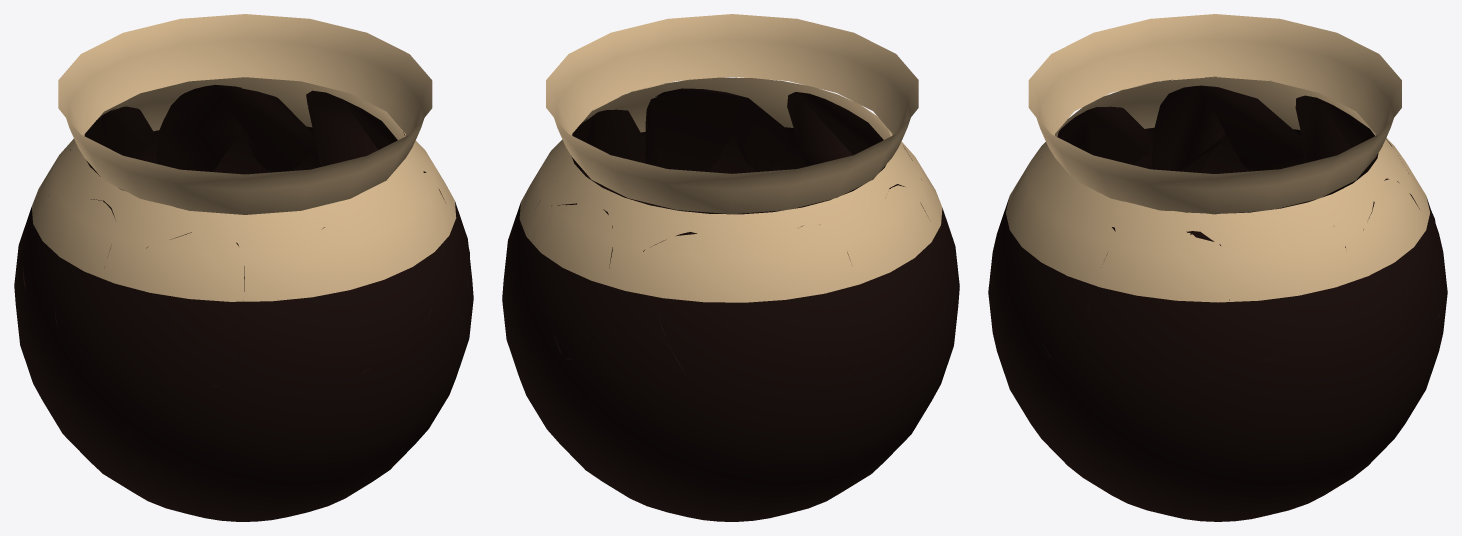
The picture shows the model from 3 angles, left to right: view 1: azimuth 30°, elevation 25°; view 2: azimuth 150°, elevation 25°; view 3: azimuth 270°, elevation 25°; orthographic projection.
Parts seen in each view (by area): view 1: Sphere001; view 2: Sphere001; view 3: Sphere001.
Part boxes in pixels (x1,y1,x2,y2): Sphere001: [14, 14, 473, 521]; Sphere001: [502, 14, 959, 521]; Sphere001: [988, 14, 1447, 521].
Size of the model in its own units: 36.84 by 35.97 by 36.84.
